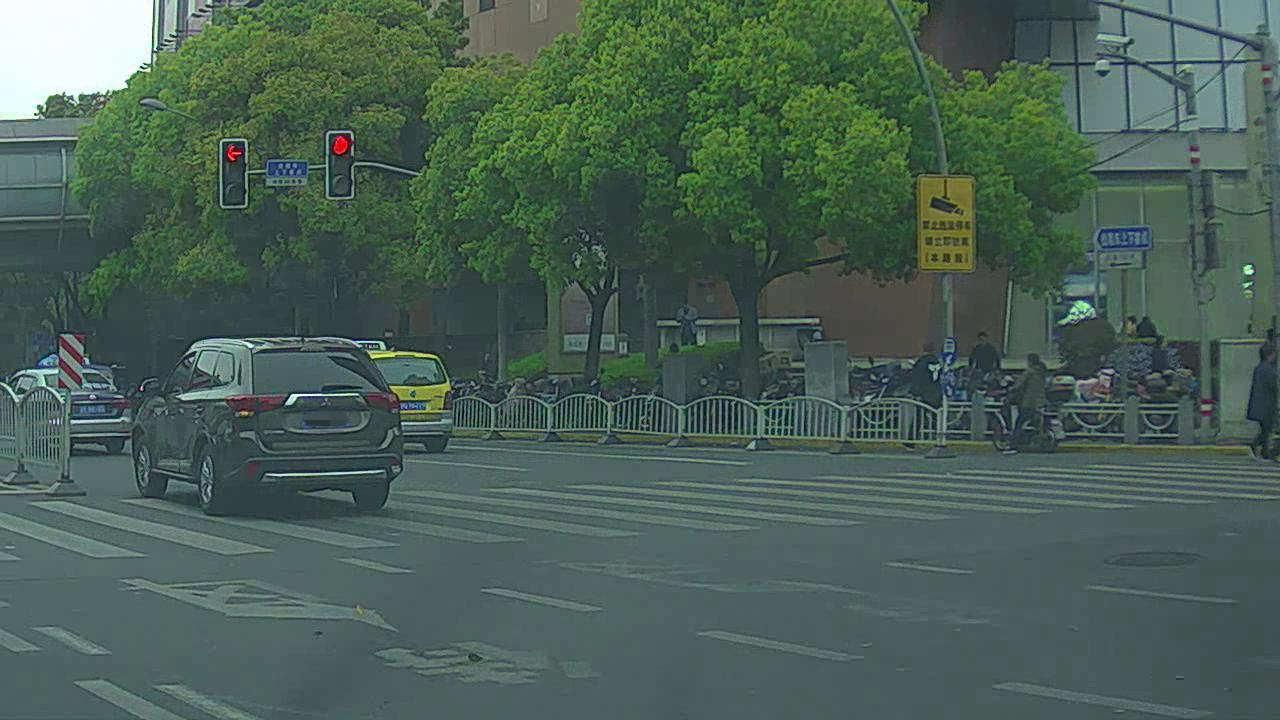traffic_light: (219, 137, 250, 213), (325, 130, 355, 198)
